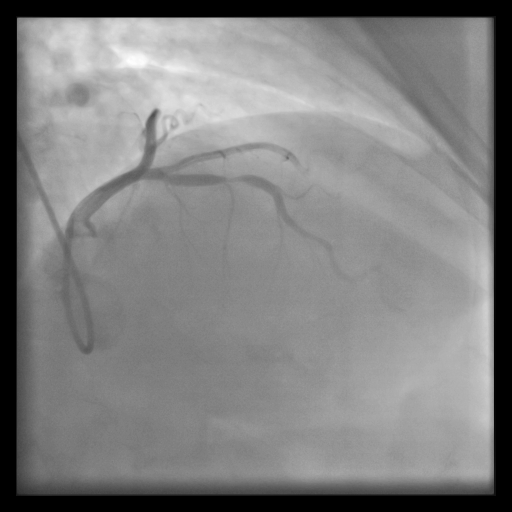Stenosis: (223, 174, 240, 187)
